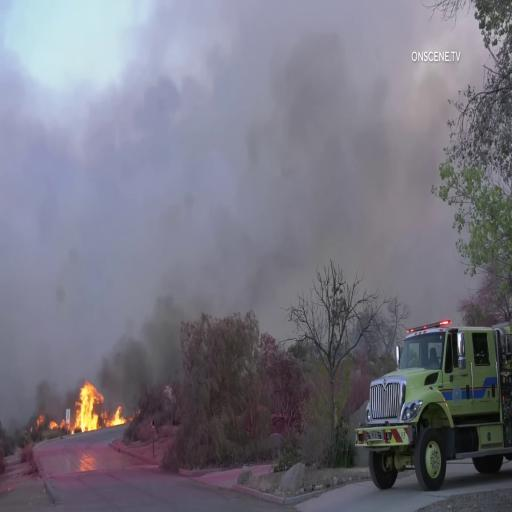fire: (72, 386, 128, 426)
